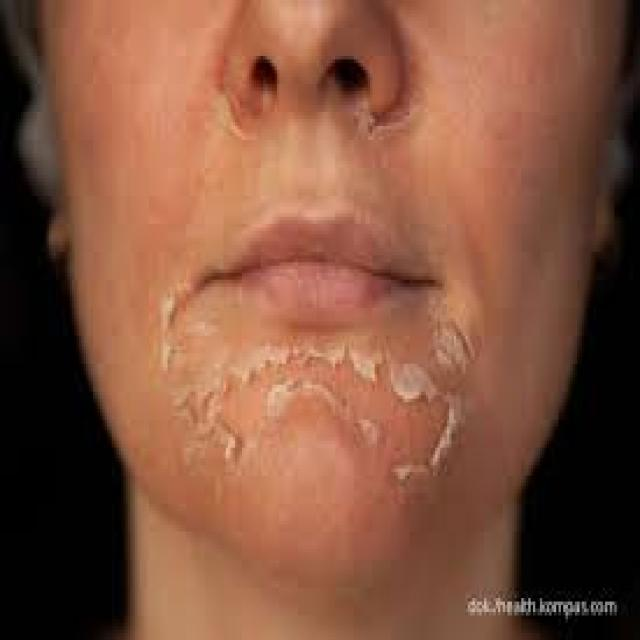Dry-Skin: (377, 375, 455, 463), (217, 52, 274, 118), (225, 370, 295, 414), (200, 395, 242, 463), (158, 306, 188, 358)
